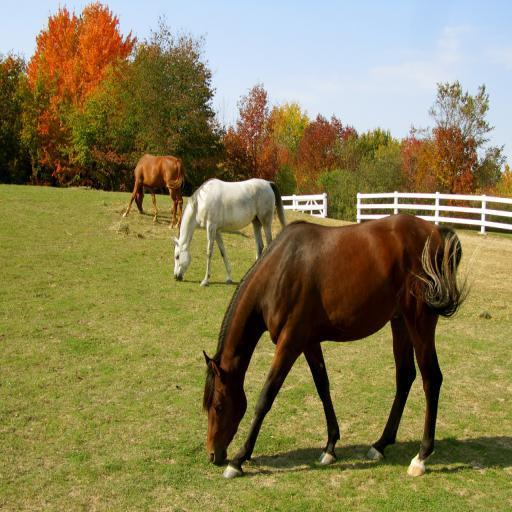horse: (200, 212, 480, 484), (172, 175, 285, 290), (122, 154, 189, 230)
